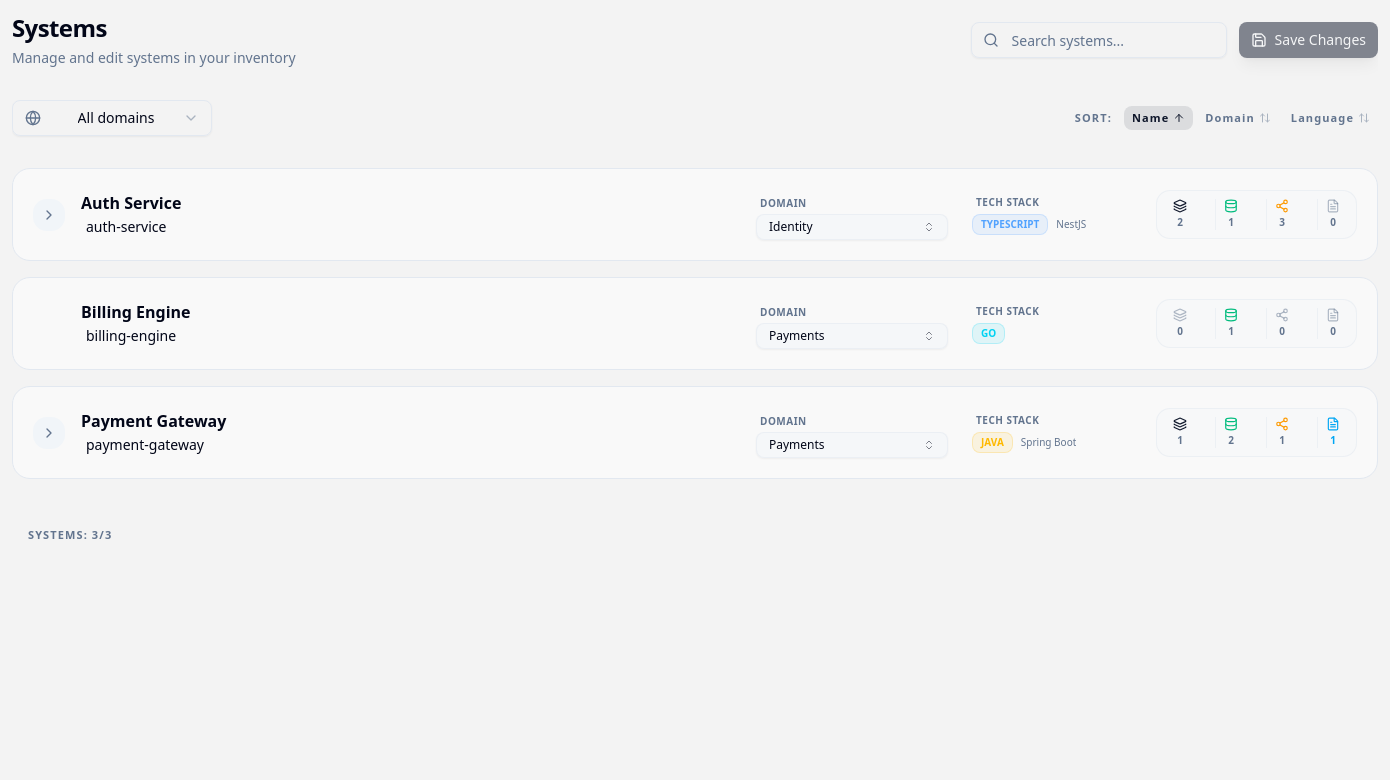
Test case: SystemsTable › filters systems by search input
Type "auth" into the field labelled "Search systems" at (1099, 40), box [971, 22, 1227, 58]
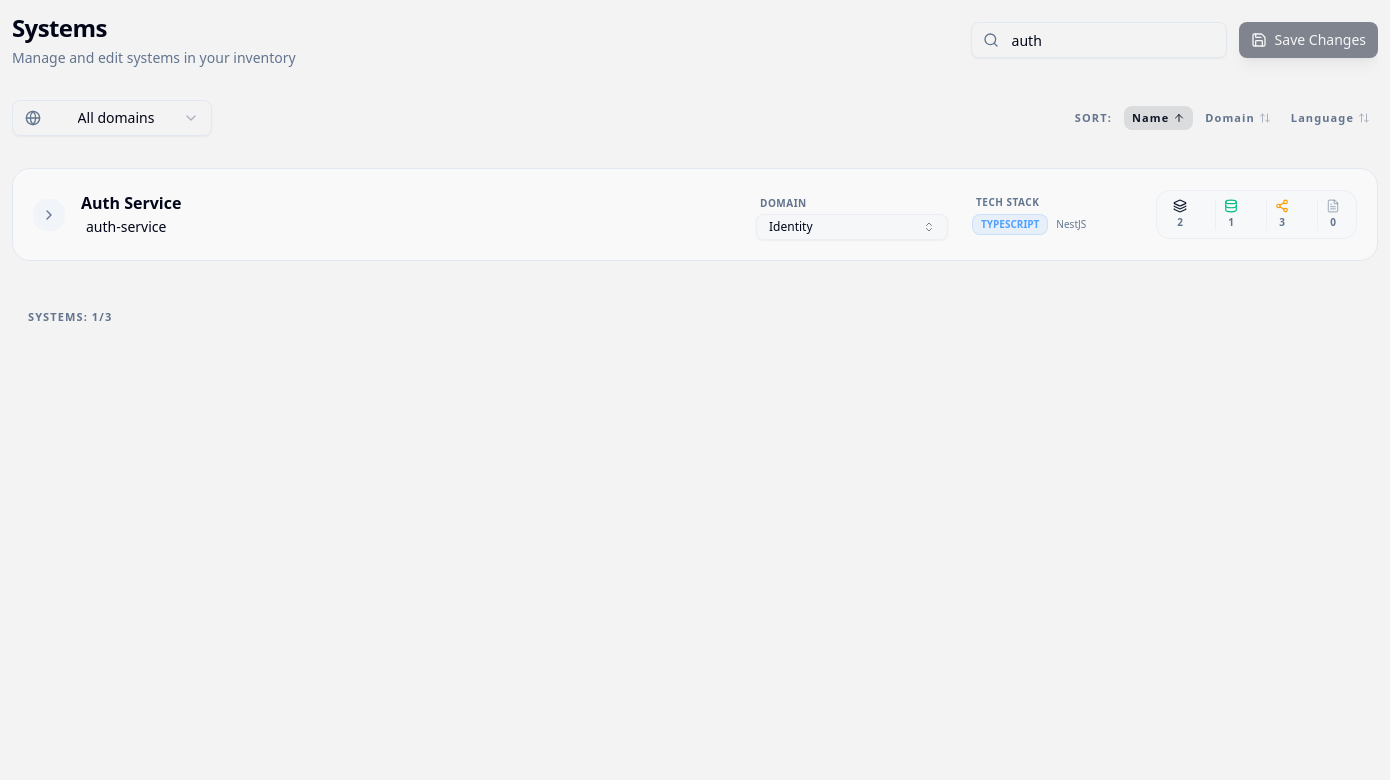
Expected: the link "Auth Service" is shown, [81, 192, 181, 214]
Expected: the link "Payment Gateway" is gone
Expected: the link "Billing Engine" is gone
